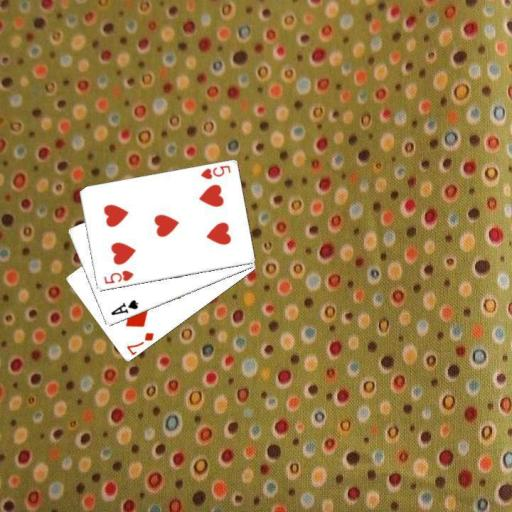card-corner: (123, 330, 156, 356), (100, 267, 135, 286), (197, 162, 232, 181), (108, 297, 140, 317)
